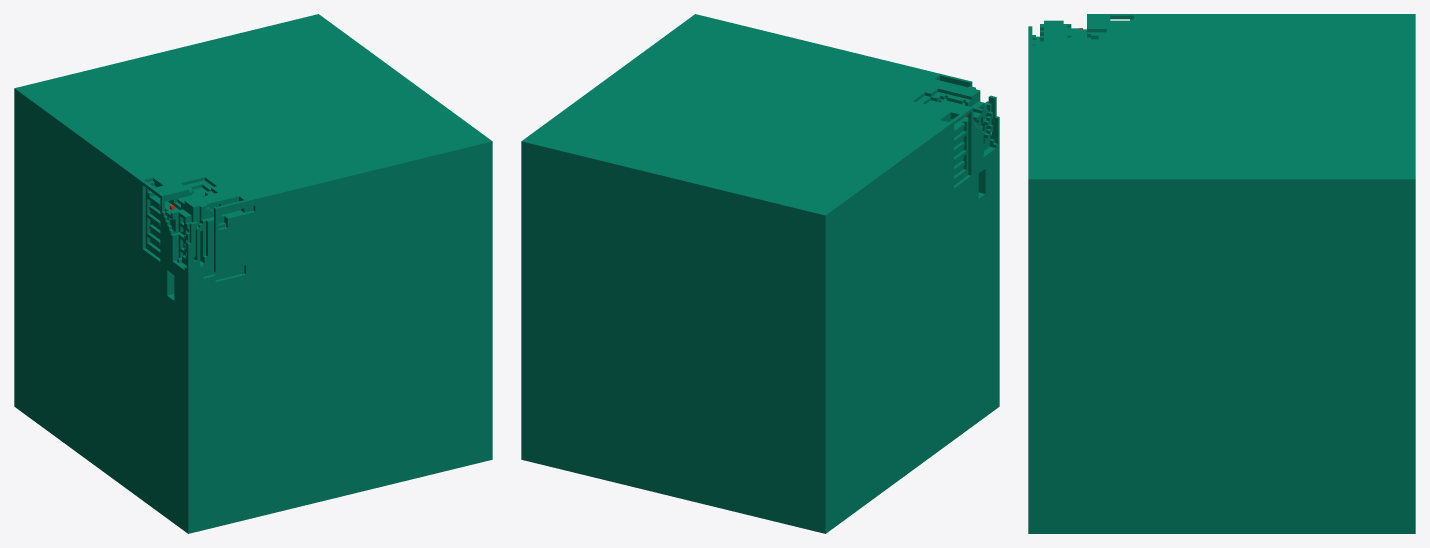
Rendered from world_maze.obj.
The picture shows the model from 3 angles, left to right: view 1: azimuth 30°, elevation 25°; view 2: azimuth 150°, elevation 25°; view 3: azimuth 270°, elevation 25°; orthographic projection. The views are drawn at different scales.
Bounding box in the file's own units: 100 × 100 × 99.
Materials: 1 (1 with a texture image).
